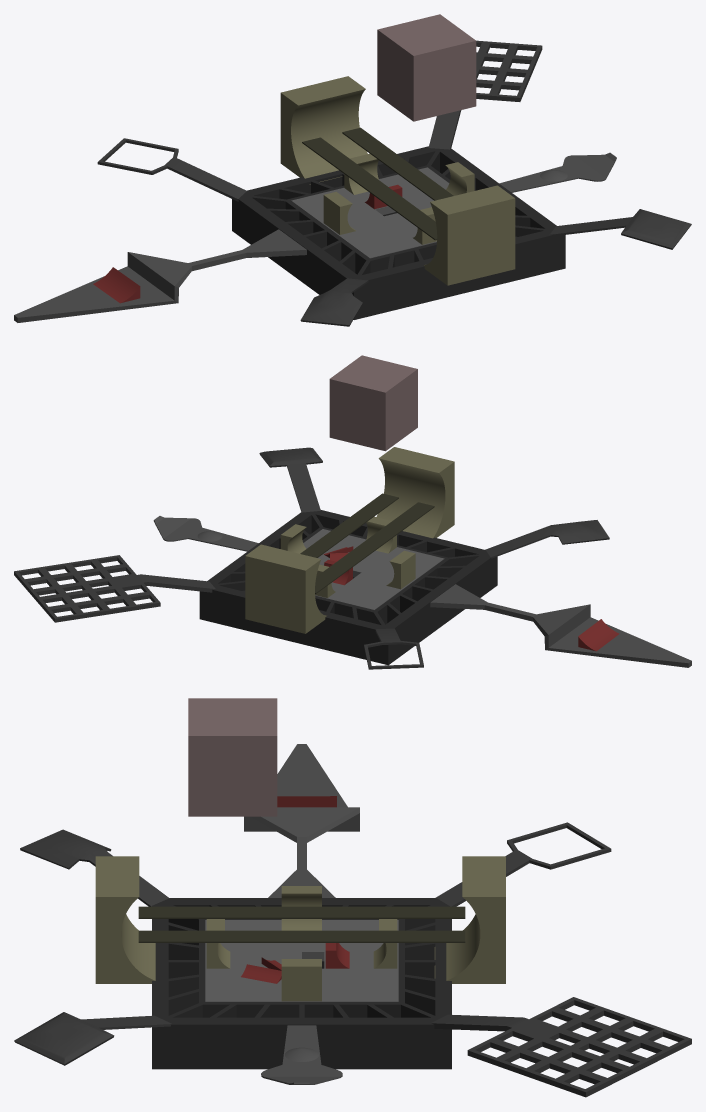
File: sumo_location01_03.fbx
The picture shows the model from 3 angles, top to bottom: view 1: azimuth 30°, elevation 25°; view 2: azimuth 150°, elevation 25°; view 3: azimuth 270°, elevation 25°; orthographic projection. The views are drawn at different scales.
Parts seen in each view (by area): view 1: Plane.005, Cube.010, Cube.008, Plane.008, Cube.007, floor, Plane.002, Plane.001, Plane.006, Plane, Plane.003, Plane.007 (+5 smaller); view 2: Plane.005, Cube.010, Plane.002, Cube.007, Plane.008, Cube.008, floor, Plane.006, Plane.001, Plane, Plane.007, Plane.009 (+5 smaller); view 3: Plane.005, Plane.002, Cube.010, floor, Plane.008, Cube.008, Cube.007, Plane.006, Plane.009, Plane.001, Plane, Plane.007 (+6 smaller).
Boxes of the visible parts, box(x1,y1,x2,y2) form: Plane.005: box(232, 146, 565, 319); Cube.010: box(377, 14, 476, 121); Cube.008: box(423, 185, 515, 285); Plane.008: box(14, 229, 306, 322); Cube.007: box(280, 76, 367, 184); floor: box(291, 167, 449, 258); Plane.002: box(428, 40, 542, 149); Plane.001: box(549, 209, 691, 249); Plane.006: box(302, 137, 437, 240); Plane: box(300, 278, 368, 326); Plane.003: box(97, 138, 246, 201); Plane.007: box(499, 152, 616, 192); Plane.005: box(199, 510, 497, 665); Cube.010: box(329, 355, 417, 451); Plane.002: box(14, 555, 215, 622); Cube.007: box(245, 544, 326, 633); Plane.008: box(430, 584, 691, 667); Cube.008: box(376, 447, 454, 538); floor: box(303, 529, 444, 610); Plane.006: box(315, 502, 434, 593); Plane.001: box(259, 447, 322, 512); Plane: box(485, 520, 609, 558); Plane.007: box(153, 516, 258, 551); Plane.009: box(300, 493, 398, 557); Plane.005: box(152, 898, 451, 1069); Plane.002: box(431, 997, 691, 1097); Cube.010: box(188, 698, 277, 816); floor: box(205, 920, 398, 1001); Plane.008: box(244, 744, 359, 897); Cube.008: box(95, 856, 155, 983); Cube.007: box(434, 856, 505, 983); Plane.006: box(138, 906, 465, 918); Plane.009: box(138, 930, 465, 942); Plane.001: box(14, 1012, 171, 1065); Plane: box(20, 829, 169, 906); Plane.007: box(261, 1025, 342, 1084).
Size of the model in its own units: 28269 by 9898 by 21057.
